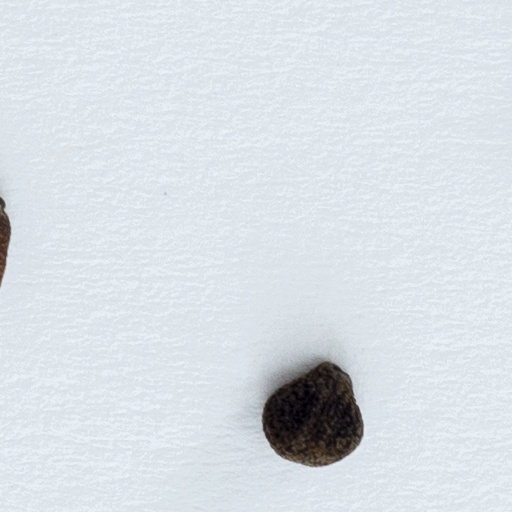Convolvulus-poly: (0, 195, 195, 285), (262, 361, 361, 467)
